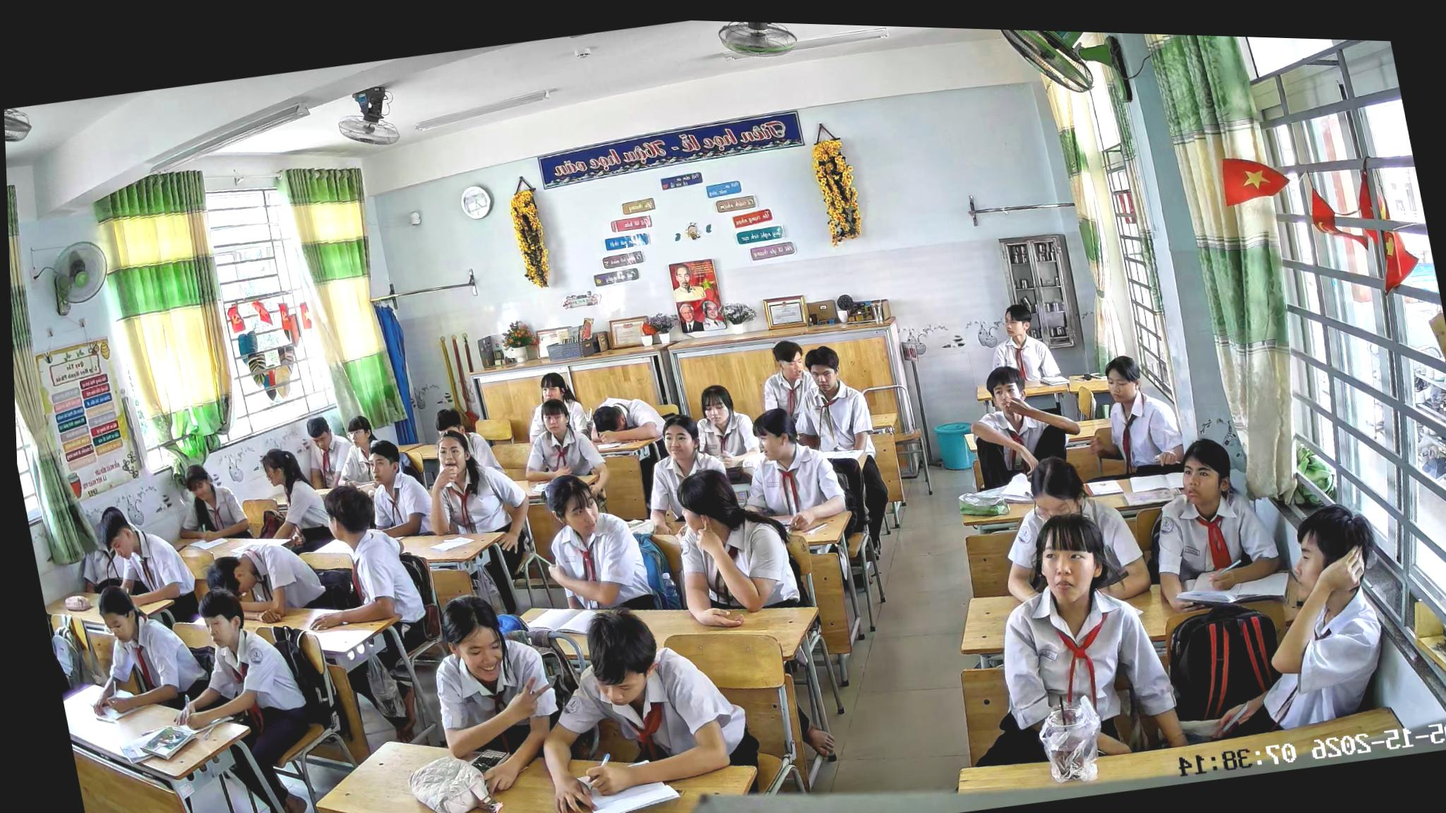person: (926, 498, 1193, 780), (1164, 494, 1408, 750), (515, 586, 771, 813), (148, 577, 334, 813), (419, 584, 573, 799), (980, 443, 1154, 619), (1129, 428, 1291, 617), (282, 476, 434, 673), (412, 417, 552, 624), (660, 458, 809, 636), (778, 338, 900, 555), (46, 494, 205, 642), (68, 572, 217, 722), (528, 463, 659, 624), (956, 355, 1092, 495), (725, 397, 854, 541), (198, 528, 357, 634), (1074, 347, 1189, 484), (630, 408, 736, 542), (510, 392, 615, 508), (587, 389, 682, 513), (250, 442, 338, 557), (357, 434, 440, 543), (977, 297, 1065, 391), (686, 379, 765, 483), (165, 457, 254, 548), (752, 336, 826, 437), (516, 367, 594, 449), (429, 400, 505, 484), (301, 412, 359, 492), (334, 412, 388, 488)
